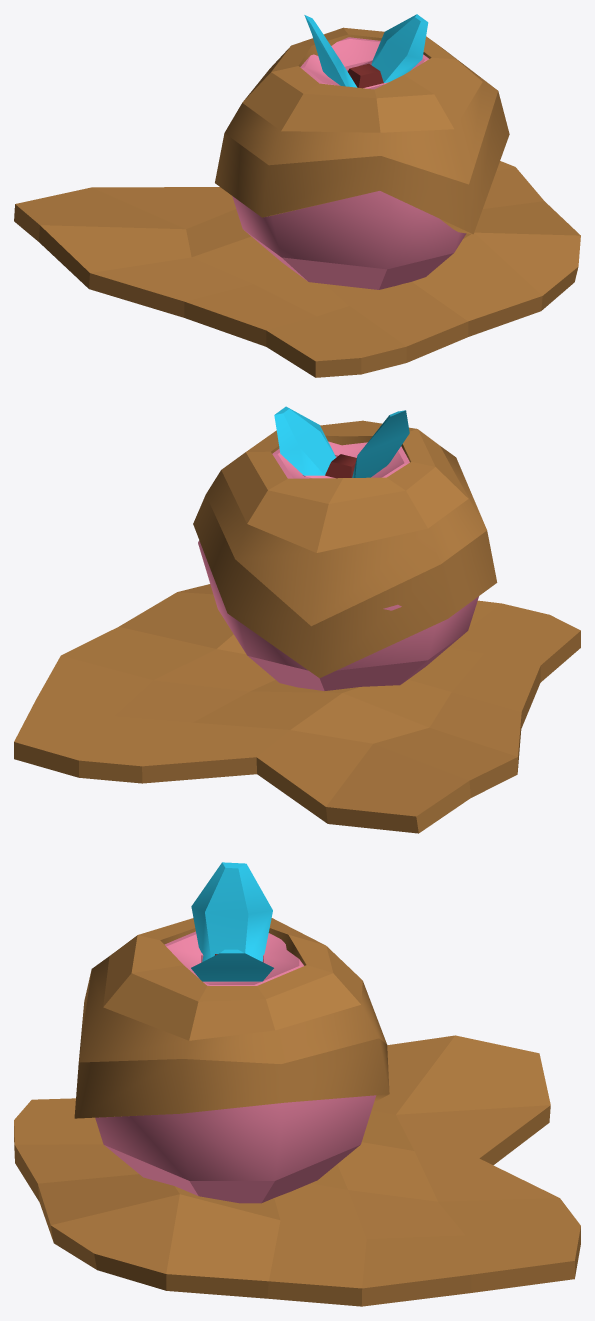
The model's file is frutaMiel.fbx.
3 views of the same model, one above another, from view 1: azimuth 30°, elevation 25°; view 2: azimuth 150°, elevation 25°; view 3: azimuth 270°, elevation 25° (orthographic). The views are drawn at different scales.
Parts seen in each view (by area): view 1: Plane, pCube1.001, pCube1; view 2: Plane, pCube1.001, pCube1; view 3: Plane, pCube1.001, pCube1.
Boxes of the visible parts, left/top/right/bottom form: Plane: left=14, top=161, right=580, bottom=377; pCube1.001: left=215, top=27, right=509, bottom=234; pCube1: left=232, top=14, right=466, bottom=289; Plane: left=14, top=584, right=580, bottom=833; pCube1.001: left=193, top=420, right=497, bottom=678; pCube1: left=198, top=406, right=478, bottom=690; Plane: left=14, top=1035, right=580, bottom=1306; pCube1.001: left=74, top=918, right=389, bottom=1118; pCube1: left=95, top=862, right=376, bottom=1203.
Size of the model in its own units: 78.46 by 46.79 by 79.96.
